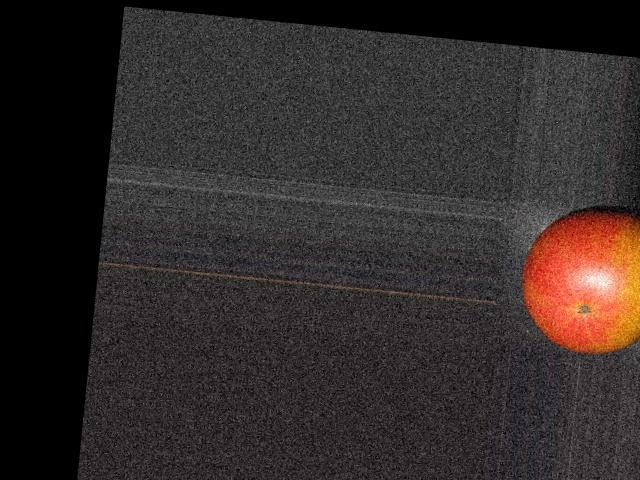tomato: (516, 202, 640, 360)
